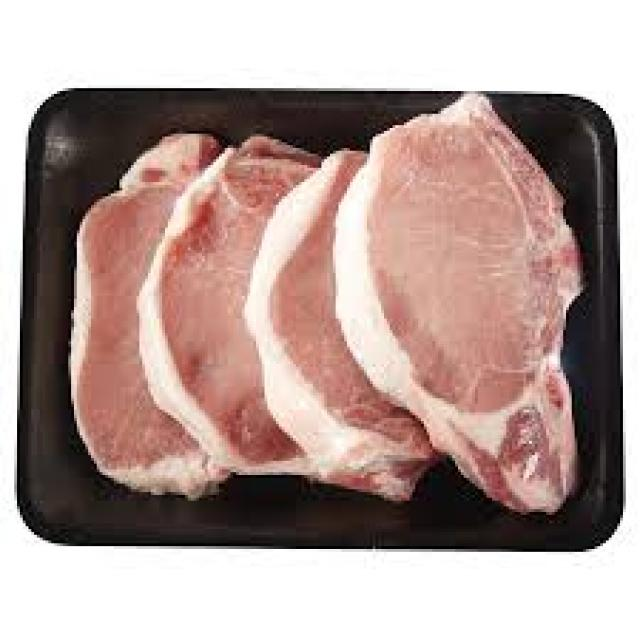pork belly: (329, 93, 580, 508), (251, 152, 436, 501), (144, 139, 330, 486), (71, 135, 227, 503)
